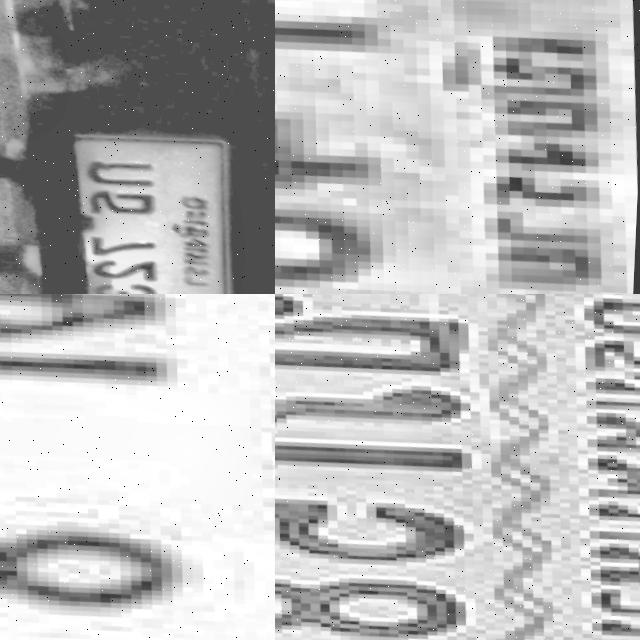license-plate: (275, 294, 640, 640), (275, 0, 640, 294), (0, 294, 275, 640), (79, 128, 232, 294)
